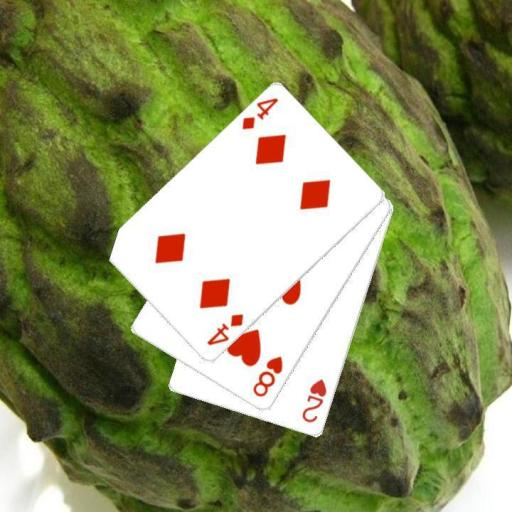card-corner: (204, 310, 246, 348), (238, 94, 280, 132), (250, 354, 284, 400), (298, 376, 328, 424)
